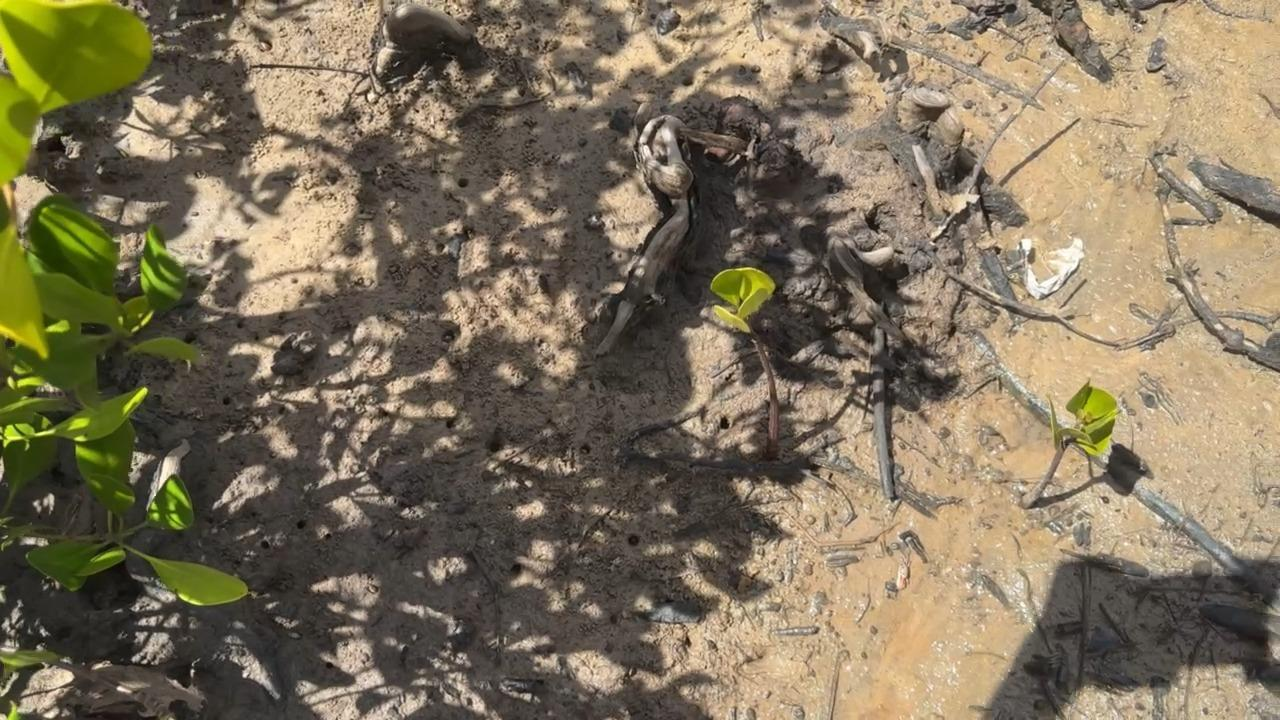Tree: (710, 267, 779, 459), (1018, 380, 1117, 509)
